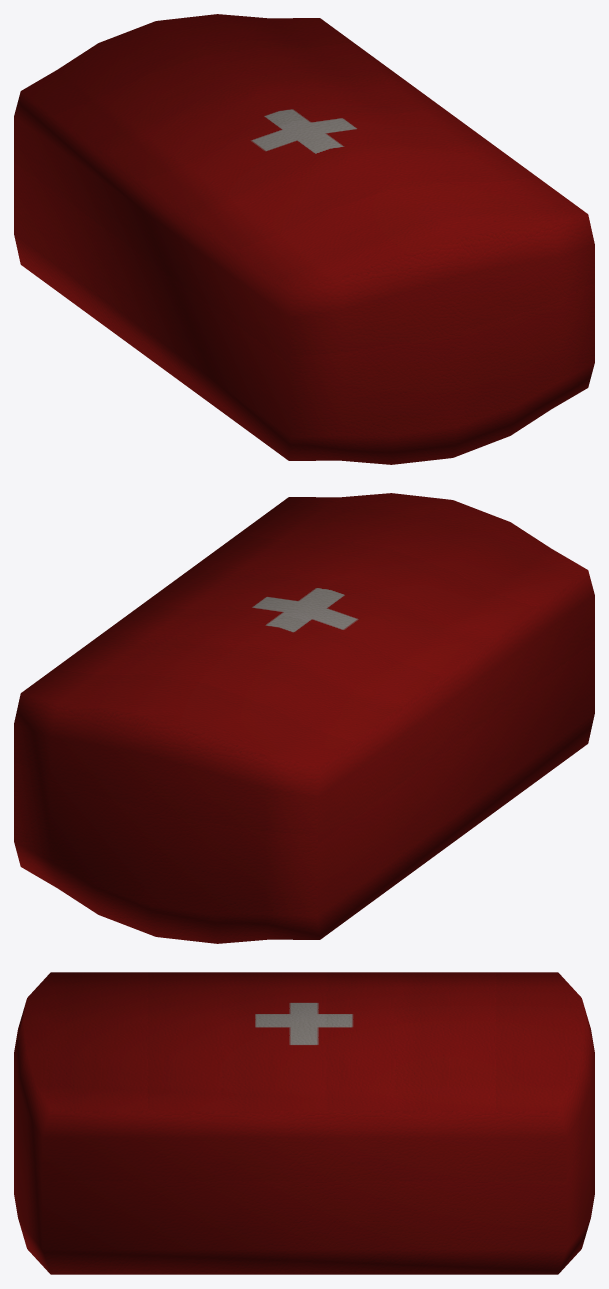
The model's file is FirstAidKit.fbx.
The picture shows the model from 3 angles, top to bottom: view 1: azimuth 30°, elevation 25°; view 2: azimuth 150°, elevation 25°; view 3: azimuth 270°, elevation 25°; orthographic projection. The views are drawn at different scales.
Visible parts, largest first — view 1: Cube; view 2: Cube; view 3: Cube.
Part boxes in pixels (<box>): Cube: <box>14,14,594,464</box>; Cube: <box>14,493,594,943</box>; Cube: <box>14,972,594,1274</box>.
Bounding box in the file's own units: 1586 × 1094 × 2773.
